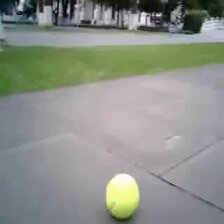tennis: (105, 174, 140, 218)
